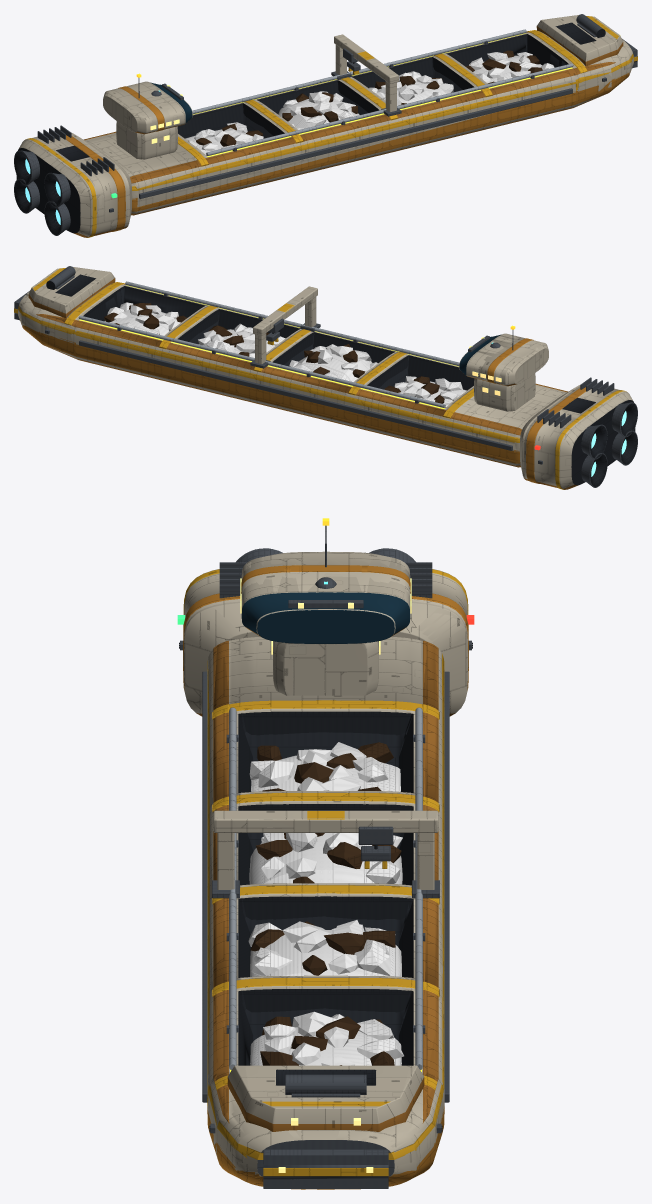
The model's file is ore_barge.glb.
3 views of the same model, one above another, from view 1: azimuth 30°, elevation 25°; view 2: azimuth 150°, elevation 25°; view 3: azimuth 270°, elevation 25° (orthographic). The views are drawn at different scales.
Visible parts, largest first — view 1: LOD0_Hull, LOD1_Hull, LOD0_MechanicalDark, LOD2_Hull, LOD0_Mechanical, LOD0_Livery, LOD0_Warning, LOD0_Ceramic_ore, LOD0_BrushedMetal, LOD1_Mechanical, LOD2_Armor, LOD0_Armor (+11 smaller); view 2: LOD0_Hull, LOD0_MechanicalDark, LOD1_Hull, LOD0_Livery, LOD2_Hull, LOD0_Mechanical, LOD0_Warning, LOD0_Ceramic_ore, LOD0_BrushedMetal, LOD1_Mechanical, LOD1_Armor, LOD2_MechanicalDark (+13 smaller); view 3: LOD0_Hull, LOD1_Hull, LOD0_MechanicalDark, LOD0_Mechanical, LOD0_Ceramic_ore, LOD0_Warning, LOD2_Hull, LOD0_Ceramic_ore2, LOD1_Armor, LOD0_MechanicalDark_ore, LOD2_Armor, LOD1_MechanicalDark (+13 smaller).
Part boxes in pixels (x1=…): LOD0_Hull: x1=19, y1=15, x2=633, y2=236; LOD1_Hull: x1=43, y1=15, x2=632, y2=235; LOD0_MechanicalDark: x1=14, y1=22, x2=606, y2=234; LOD2_Hull: x1=26, y1=31, x2=630, y2=235; LOD0_Mechanical: x1=14, y1=14, x2=637, y2=235; LOD0_Livery: x1=66, y1=72, x2=629, y2=231; LOD0_Warning: x1=26, y1=16, x2=637, y2=237; LOD0_Ceramic_ore: x1=189, y1=52, x2=554, y2=154; LOD0_BrushedMetal: x1=192, y1=29, x2=572, y2=155; LOD1_Mechanical: x1=15, y1=32, x2=594, y2=233; LOD2_Armor: x1=88, y1=26, x2=609, y2=237; LOD0_Armor: x1=74, y1=26, x2=623, y2=237; LOD0_Hull: x1=18, y1=267, x2=632, y2=488; LOD0_MechanicalDark: x1=45, y1=274, x2=637, y2=486; LOD1_Hull: x1=18, y1=267, x2=632, y2=488; LOD0_Livery: x1=21, y1=323, x2=585, y2=483; LOD2_Hull: x1=19, y1=273, x2=625, y2=487; LOD0_Mechanical: x1=14, y1=266, x2=637, y2=487; LOD0_Warning: x1=14, y1=268, x2=625, y2=489; LOD0_Ceramic_ore: x1=107, y1=302, x2=462, y2=406; LOD0_BrushedMetal: x1=79, y1=281, x2=459, y2=407; LOD1_Mechanical: x1=57, y1=276, x2=637, y2=487; LOD1_Armor: x1=34, y1=281, x2=575, y2=488; LOD2_MechanicalDark: x1=55, y1=274, x2=637, y2=486; LOD0_Hull: x1=183, y1=551, x2=468, y2=1176; LOD1_Hull: x1=183, y1=551, x2=468, y2=1174; LOD0_MechanicalDark: x1=179, y1=642, x2=472, y2=1131; LOD0_Mechanical: x1=180, y1=525, x2=471, y2=1188; LOD0_Ceramic_ore: x1=248, y1=742, x2=403, y2=1065; LOD0_Warning: x1=183, y1=569, x2=468, y2=1176; LOD2_Hull: x1=183, y1=552, x2=468, y2=1174; LOD0_Ceramic_ore2: x1=250, y1=742, x2=401, y2=1065; LOD1_Armor: x1=213, y1=627, x2=438, y2=1131; LOD0_MechanicalDark_ore: x1=249, y1=755, x2=402, y2=1065; LOD2_Armor: x1=213, y1=648, x2=438, y2=1131; LOD1_MechanicalDark: x1=179, y1=643, x2=442, y2=1130.
Size of what is drawn, in the model's own units: 43.3 by 8.86 by 9.5.
18 materials, 10 textured.
